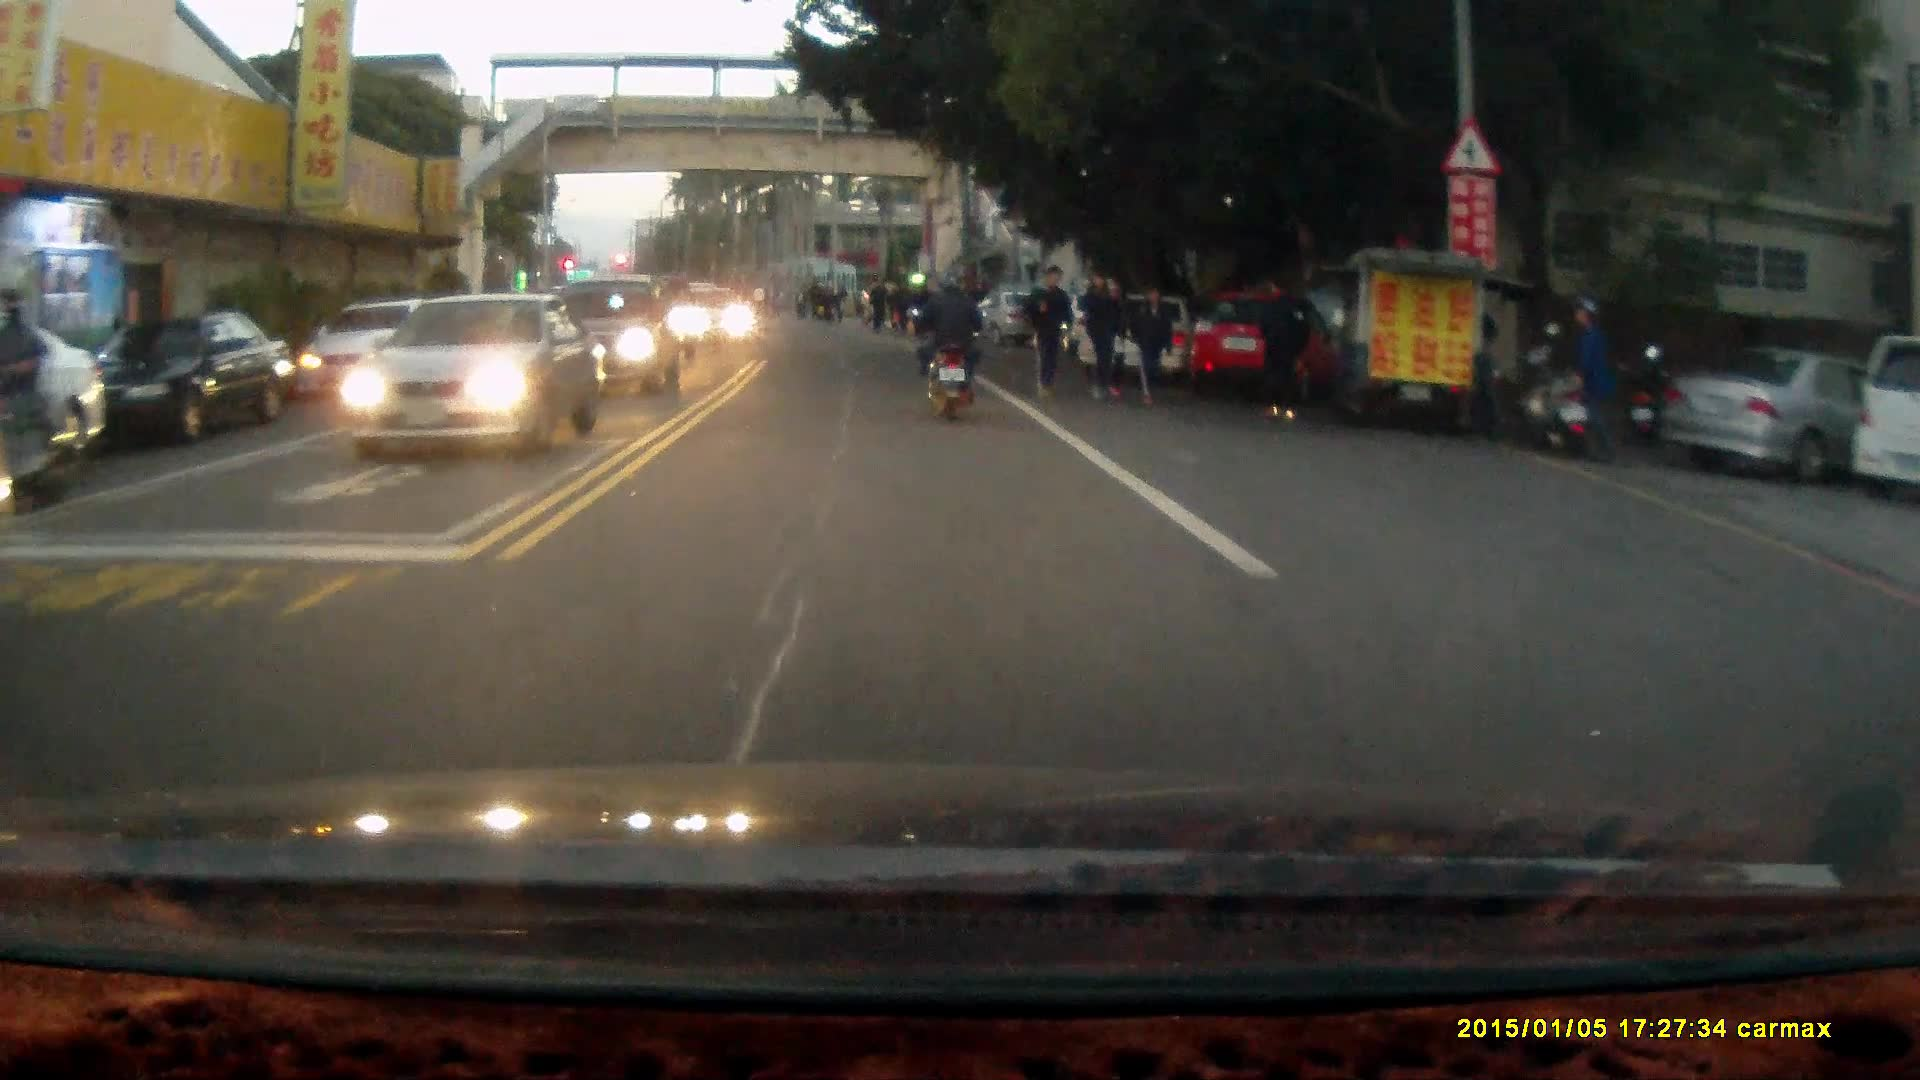pedestrian: (1250, 271, 1311, 424), (1563, 279, 1618, 447), (1021, 260, 1073, 403), (1131, 283, 1178, 411), (1081, 269, 1119, 404)
rider: (909, 268, 987, 427)
vehicle: (342, 289, 599, 450), (1665, 339, 1920, 480), (1184, 286, 1339, 396), (554, 270, 683, 395), (973, 290, 1063, 352), (675, 285, 753, 346)
